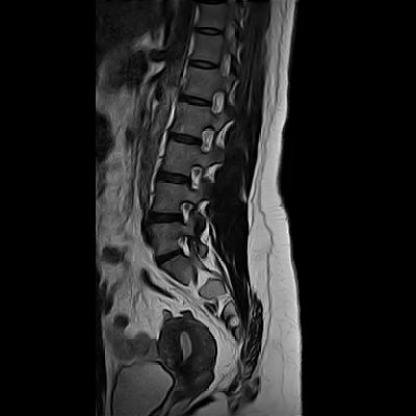Disc Bulgerotation: (147, 209, 184, 227)
Disc Protrusionrotation: (155, 248, 184, 264)
